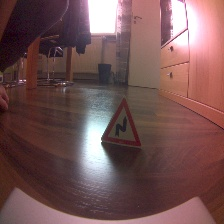vorsicht: (97, 95, 146, 151)
